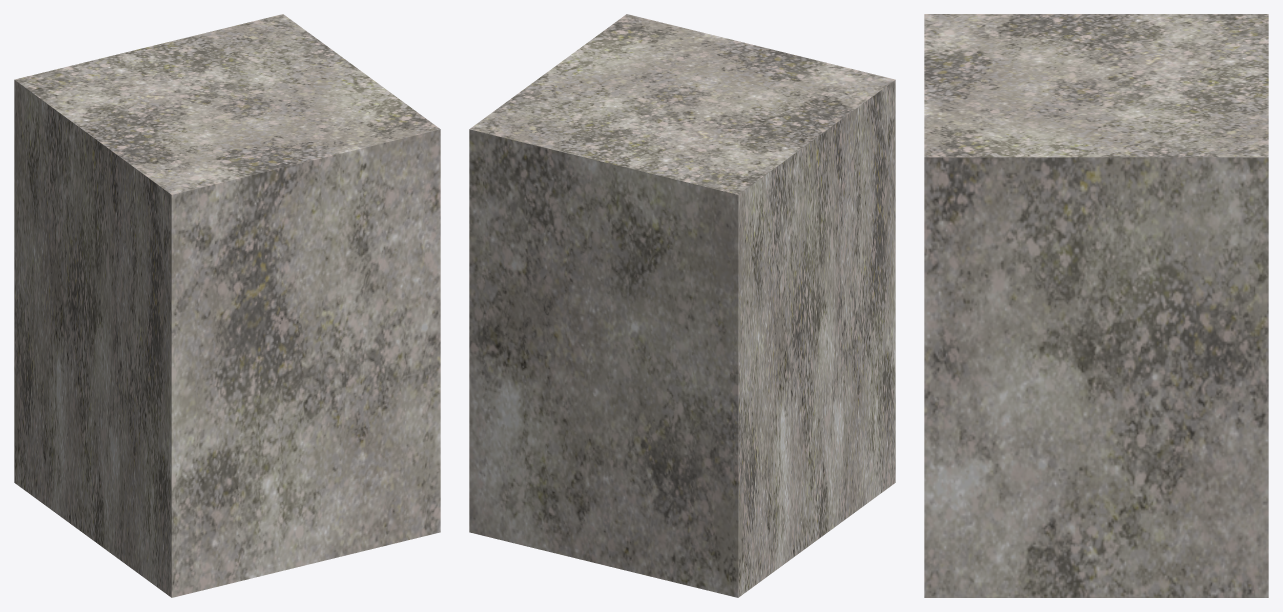
File: Stone Wall.glb
3 renders of one model, left to right at view 1: azimuth 30°, elevation 25°; view 2: azimuth 150°, elevation 25°; view 3: azimuth 270°, elevation 25°, orthographic. The views are drawn at different scales.
Visible parts, largest first — view 1: Object_2; view 2: Object_2; view 3: Object_2.
Boxes of the visible parts, <box> form: Object_2: <box>14,14,440,597</box>; Object_2: <box>469,14,895,597</box>; Object_2: <box>924,14,1268,597</box>.
Bounding box in the file's own units: 8.36 × 11.97 × 8.48.
Materials: 1 (1 with a texture image).
